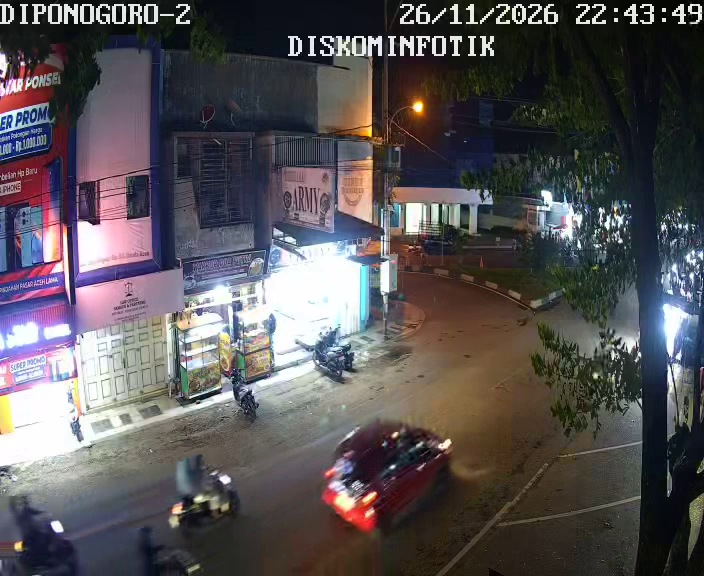Gerobak: (173, 310, 225, 402), (230, 301, 273, 383)
